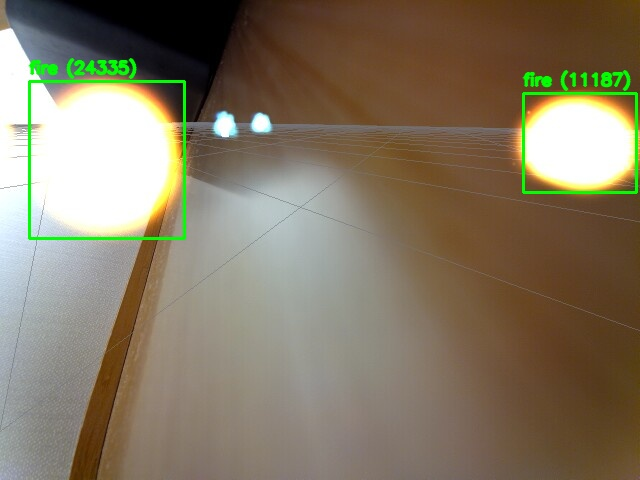fire: (29, 81, 184, 238), (523, 93, 636, 192)
